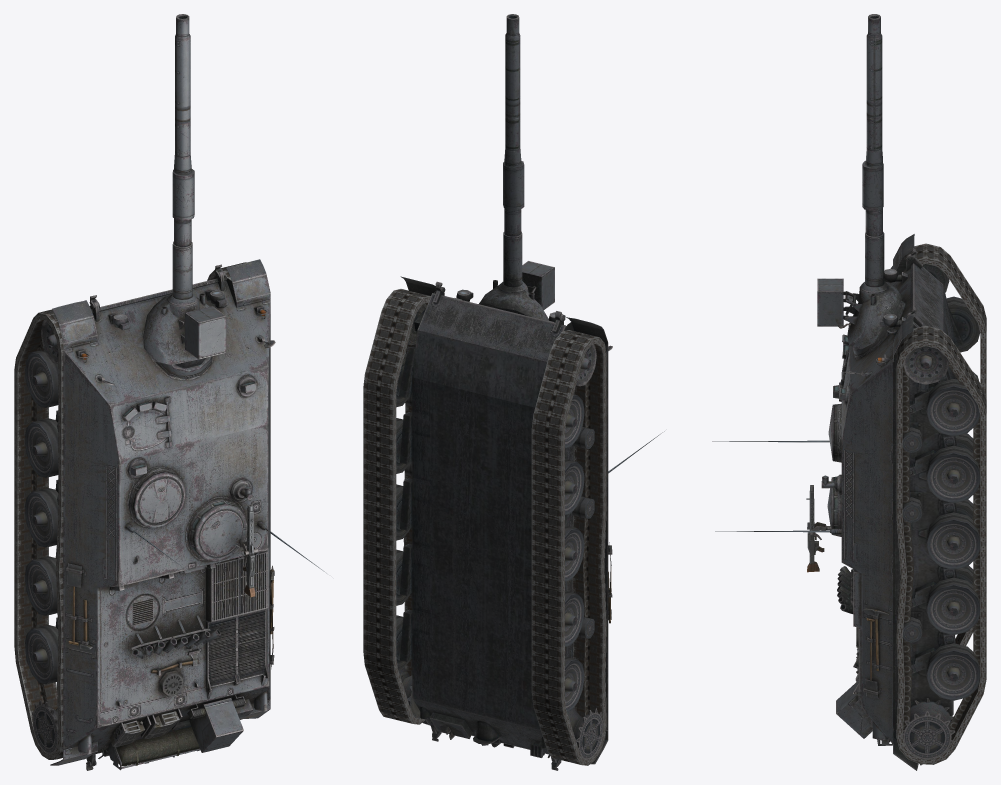
3 renders of one model, left to right at view 1: azimuth 30°, elevation 25°; view 2: azimuth 150°, elevation 25°; view 3: azimuth 270°, elevation 25°, orthographic. The views are drawn at different scales.
Parts seen in each view (by area): view 1: hull, chassis_track_L, gun_01_mask, gun_01, chassis_wheel_L_04, chassis_wheel_L_09, chassis_wheel_L_06, chassis_wheel_L_07, chassis_wheel_L_02, chassis_wheel_L_10; view 2: hull, chassis_track_L, chassis_track_R, gun_01, gun_01_mask, chassis_wheel_L_10, chassis_wheel_L_06, chassis_wheel_L_07, chassis_wheel_L_04, chassis_wheel_L_09, chassis_wheel_L_02; view 3: hull, chassis_track_R, gun_01_mask, gun_01, chassis_wheel_R_04, chassis_wheel_R_06, chassis_wheel_R_09, chassis_wheel_R_07, chassis_wheel_R_10, chassis_track_L, chassis_wheel_R_02, chassis_wheel_R_01 (+1 smaller).
Boxes of the visible parts, left/top/right/bottom form: hull: left=50, top=259, right=326, bottom=770; chassis_track_L: left=14, top=309, right=63, bottom=759; gun_01_mask: left=143, top=241, right=226, bottom=368; gun_01: left=172, top=14, right=194, bottom=247; chassis_wheel_L_04: left=25, top=418, right=58, bottom=477; chassis_wheel_L_09: left=25, top=625, right=58, bottom=684; chassis_wheel_L_06: left=25, top=488, right=58, bottom=547; chassis_wheel_L_07: left=25, top=556, right=57, bottom=615; chassis_wheel_L_02: left=25, top=349, right=58, bottom=407; chassis_wheel_L_10: left=31, top=700, right=58, bottom=754; hull: left=399, top=276, right=664, bottom=770; chassis_track_L: left=531, top=330, right=606, bottom=765; chassis_track_R: left=363, top=289, right=430, bottom=724; gun_01: left=503, top=14, right=524, bottom=236; gun_01_mask: left=479, top=231, right=554, bottom=320; chassis_wheel_L_10: left=567, top=708, right=603, bottom=759; chassis_wheel_L_06: left=565, top=525, right=584, bottom=581; chassis_wheel_L_07: left=565, top=591, right=584, bottom=646; chassis_wheel_L_04: left=565, top=459, right=584, bottom=514; chassis_wheel_L_09: left=565, top=656, right=584, bottom=711; chassis_wheel_L_02: left=565, top=394, right=584, bottom=448; hull: left=712, top=234, right=963, bottom=770; chassis_track_R: left=896, top=326, right=986, bottom=764; gun_01_mask: left=817, top=232, right=902, bottom=349; gun_01: left=862, top=14, right=883, bottom=236; chassis_wheel_R_04: left=926, top=445, right=980, bottom=503; chassis_wheel_R_06: left=926, top=512, right=980, bottom=569; chassis_wheel_R_09: left=926, top=643, right=980, bottom=700; chassis_wheel_R_07: left=926, top=577, right=980, bottom=634; chassis_wheel_R_10: left=903, top=698, right=955, bottom=759; chassis_track_L: left=902, top=243, right=986, bottom=645; chassis_wheel_R_02: left=926, top=379, right=980, bottom=436; chassis_wheel_R_01: left=903, top=346, right=949, bottom=384.
Size of the model in its own units: 3 by 10.37 by 3.76.
2 materials, 2 textured.
